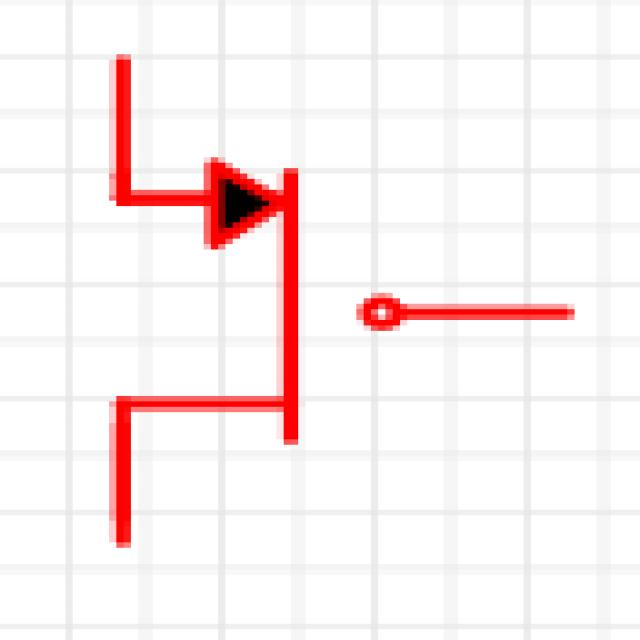pmos: (58, 38, 640, 559)
